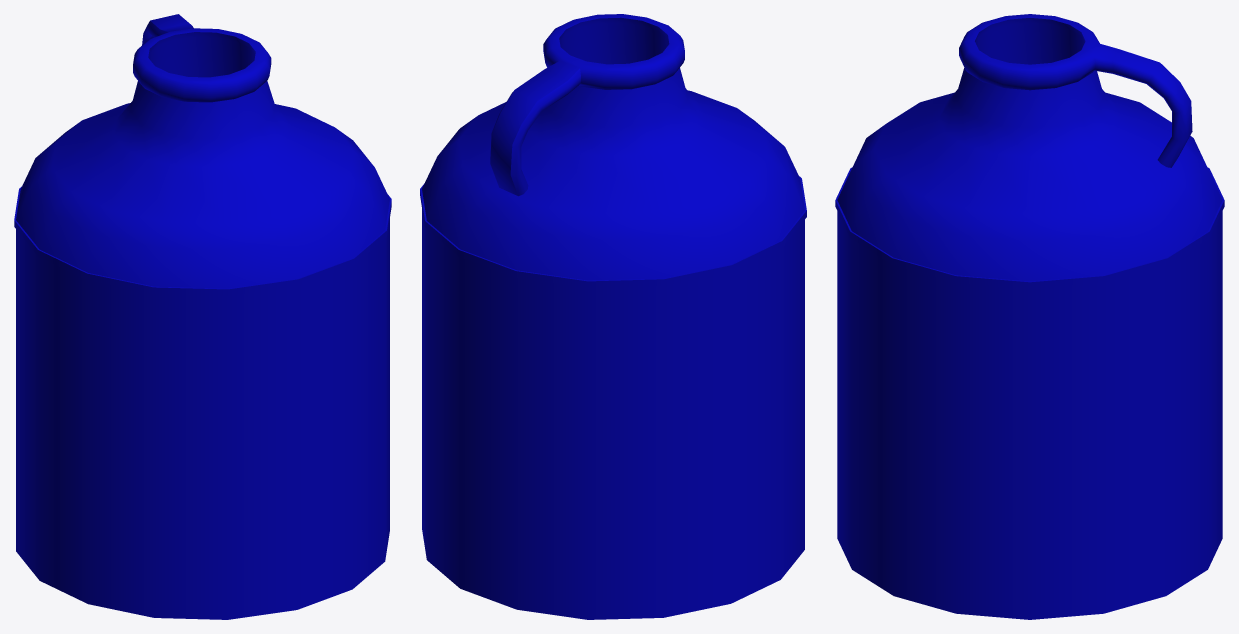
The model's file is Prop_MoonshineBottle.FBX.
The picture shows the model from 3 angles, left to right: view 1: azimuth 30°, elevation 25°; view 2: azimuth 150°, elevation 25°; view 3: azimuth 270°, elevation 25°; orthographic projection. The views are drawn at different scales.
Parts seen in each view (by area): view 1: Moonshine Bottle; view 2: Moonshine Bottle; view 3: Moonshine Bottle.
Boxes of the visible parts, <box> form: Moonshine Bottle: <box>14,14,391,619</box>; Moonshine Bottle: <box>420,14,806,619</box>; Moonshine Bottle: <box>835,14,1224,619</box>.
Size of the model in its own units: 17.06 by 24.04 by 17.06.
